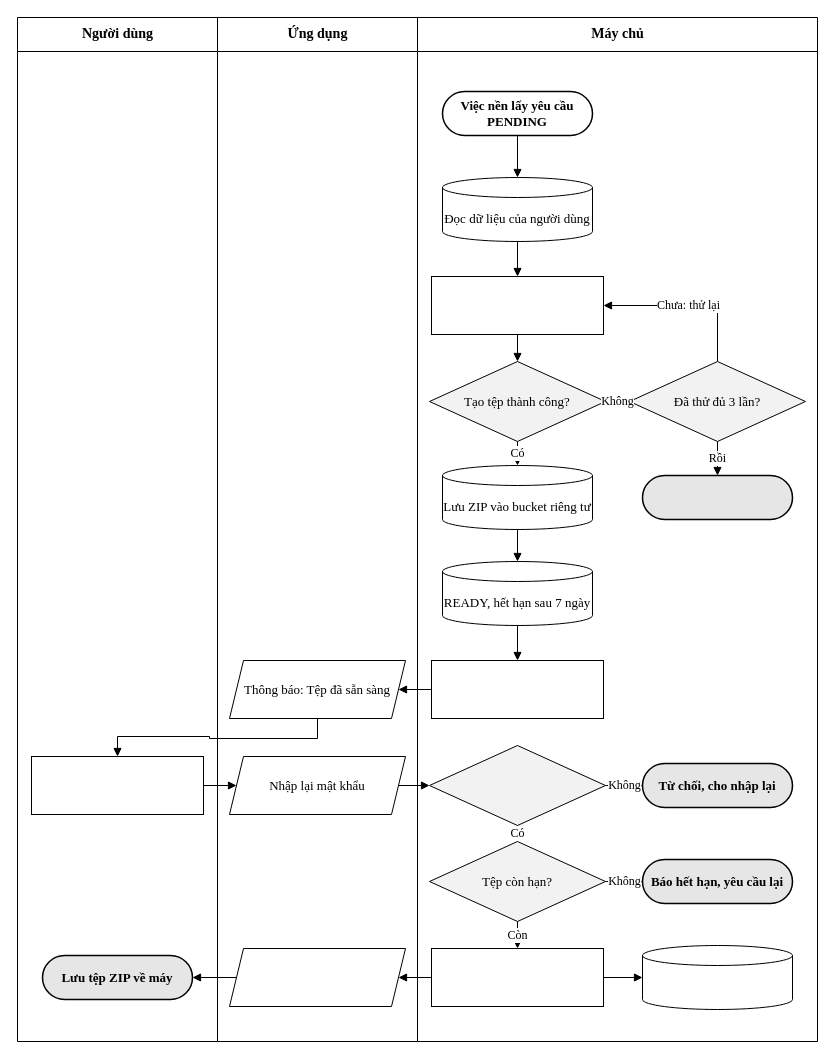
This 835x1059 diagram has some shape labels left out. Each missing label, with the centre of its shape:
Bấm Tải xuống: the point at 117,785
FAILED, báo người dùng: the point at 717,497
Ghi lượt tải: the point at 717,977
Ghép ZIP, lọc dữ liệu người khác: the point at 517,305
Gửi email và thông báo đẩy: the point at 517,689
Mở link bằng trình duyệt: the point at 317,977
Tạo link ký 15 phút: the point at 517,977
Xác nhận đúng?: the point at 517,785
